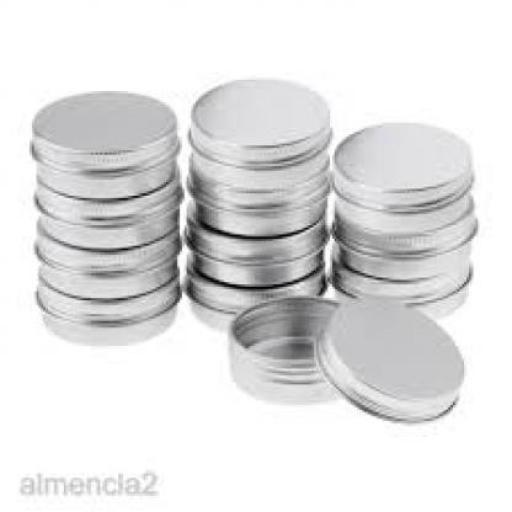metal: (312, 294, 462, 419), (24, 88, 180, 200), (328, 122, 476, 232), (186, 77, 328, 191), (228, 294, 334, 400), (31, 227, 178, 299), (332, 212, 480, 278), (30, 180, 177, 246), (34, 278, 175, 344), (182, 218, 325, 280), (184, 170, 326, 232), (182, 271, 323, 327), (330, 260, 469, 311)
